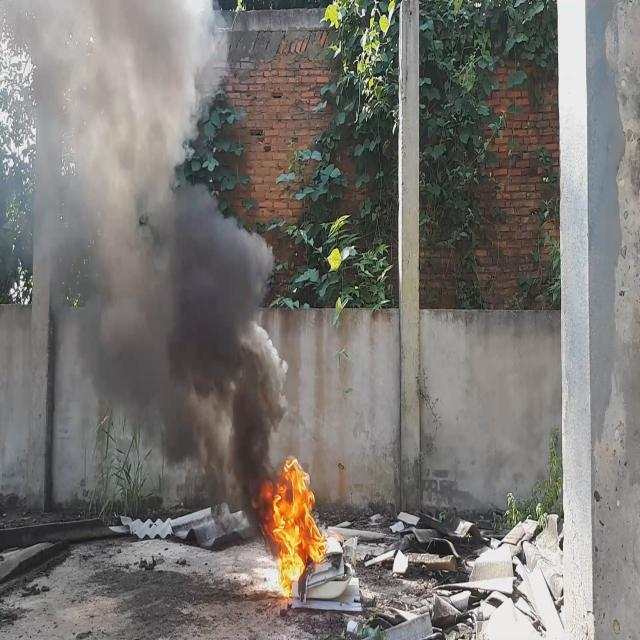Fire: (260, 456, 324, 593)
Smoke: (0, 0, 289, 516)
